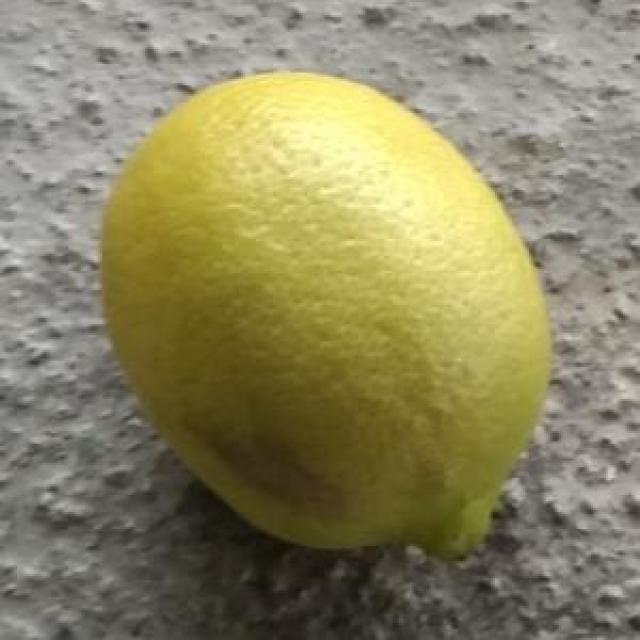lemon: (100, 70, 550, 550)
